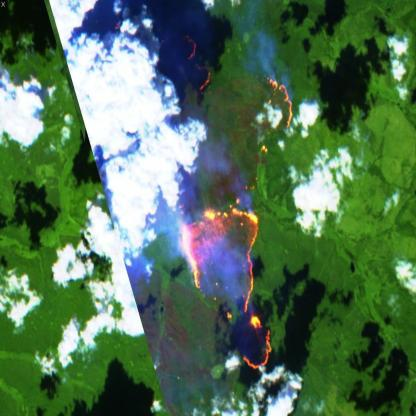fire: (172, 198, 277, 375), (170, 25, 218, 92), (254, 74, 297, 137)
